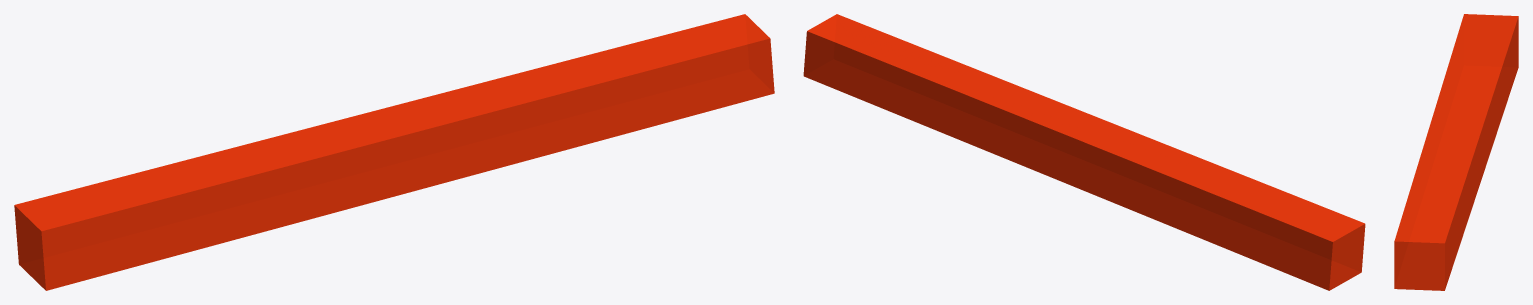
Rendered from Event_420604493_EErechit_31.fbx.
The picture shows the model from 3 angles, left to right: view 1: azimuth 30°, elevation 25°; view 2: azimuth 150°, elevation 25°; view 3: azimuth 270°, elevation 25°; orthographic projection. The views are drawn at different scales.
Visible parts, largest first — view 1: Model; view 2: Model; view 3: Model.
Boxes of the visible parts, box(x1,y1,x2,y2) form: Model: box(14, 14, 774, 290); Model: box(803, 14, 1365, 290); Model: box(1394, 14, 1518, 290).
Size of the model in its own units: 0.9387 by 0.1517 by 0.1776.
